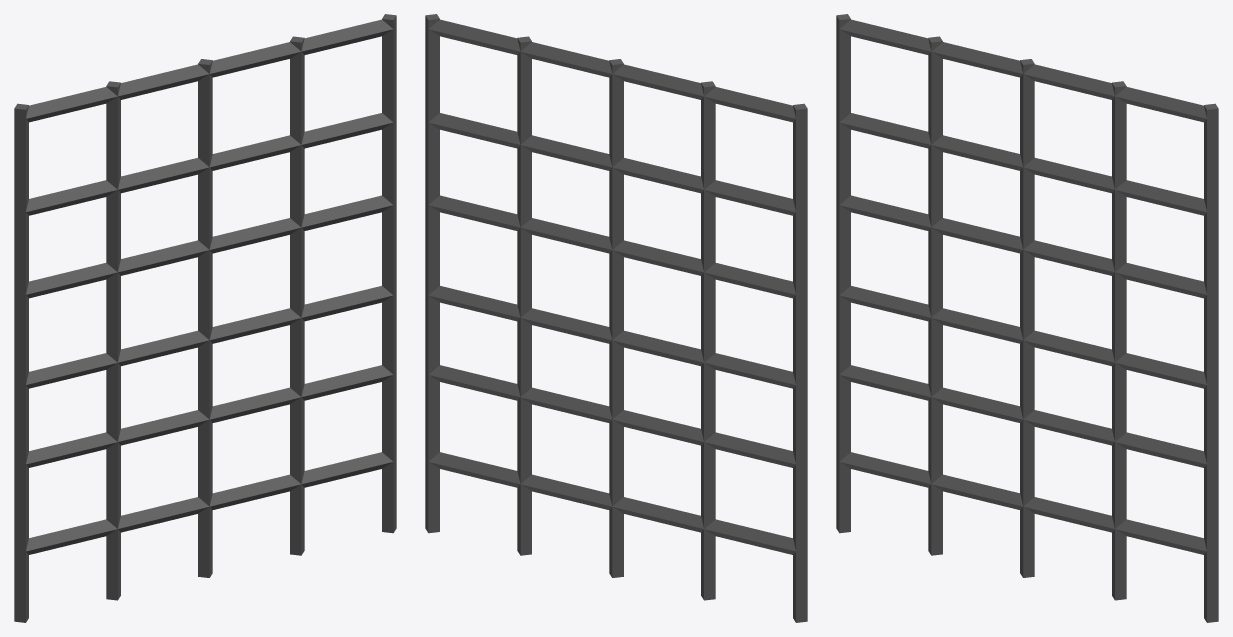
The model's file is IronLatticeGate.fbx.
The picture shows the model from 3 angles, left to right: view 1: azimuth 30°, elevation 25°; view 2: azimuth 150°, elevation 25°; view 3: azimuth 330°, elevation 25°; orthographic projection.
Parts seen in each view (by area): view 1: IronLatticeGate; view 2: IronLatticeGate; view 3: IronLatticeGate.
Part boxes in pixels (x1,y1,x2,y2): IronLatticeGate: [14, 14, 396, 622]; IronLatticeGate: [425, 14, 807, 622]; IronLatticeGate: [836, 14, 1218, 622].
Size of the model in its own units: 218 by 280 by 8.38.
Materials: 1 (1 with a texture image).
